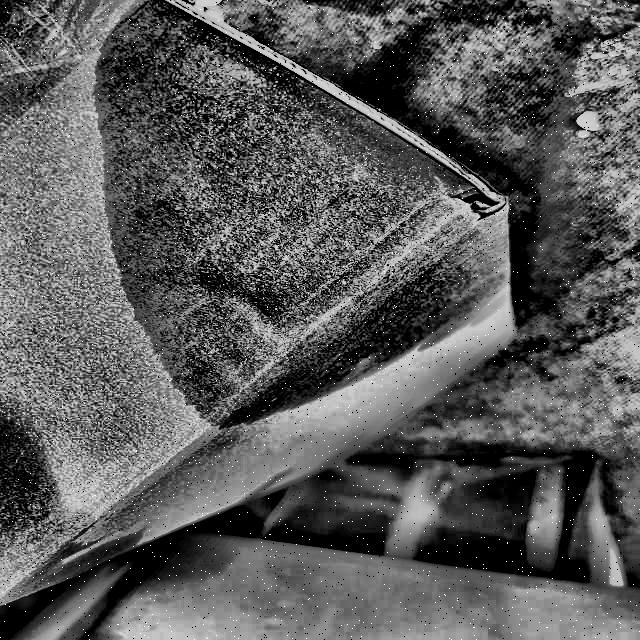box: (0, 0, 530, 627)
wet: (77, 32, 539, 432)
